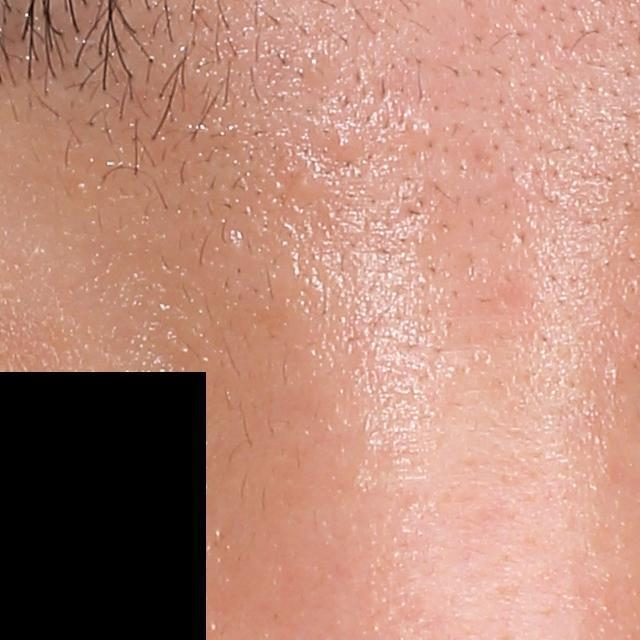comedo: (286, 164, 327, 207), (324, 128, 354, 160)
